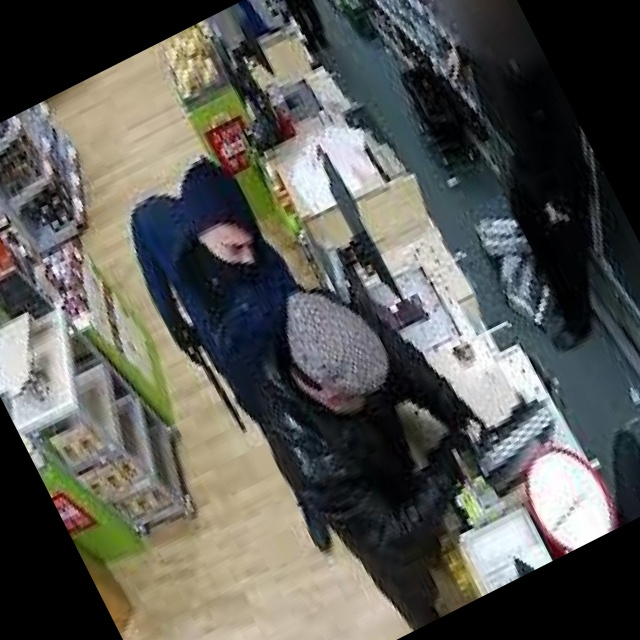gun: (165, 313, 255, 450)
